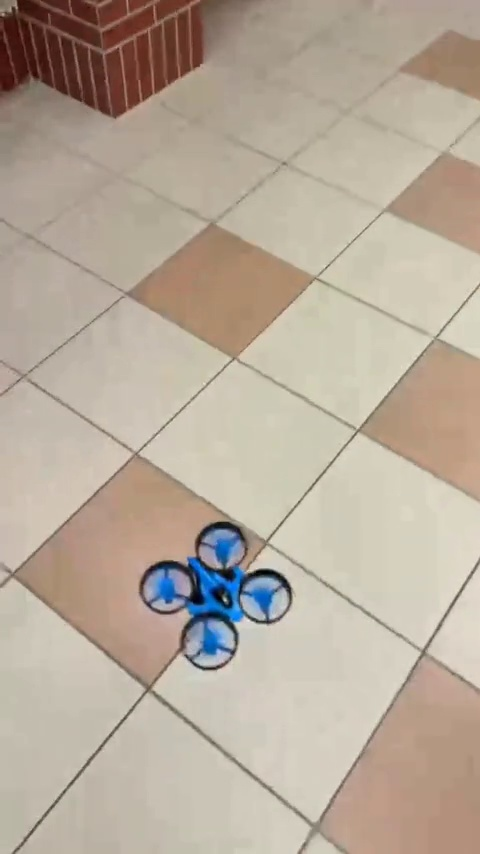drone: (137, 521, 291, 671)
